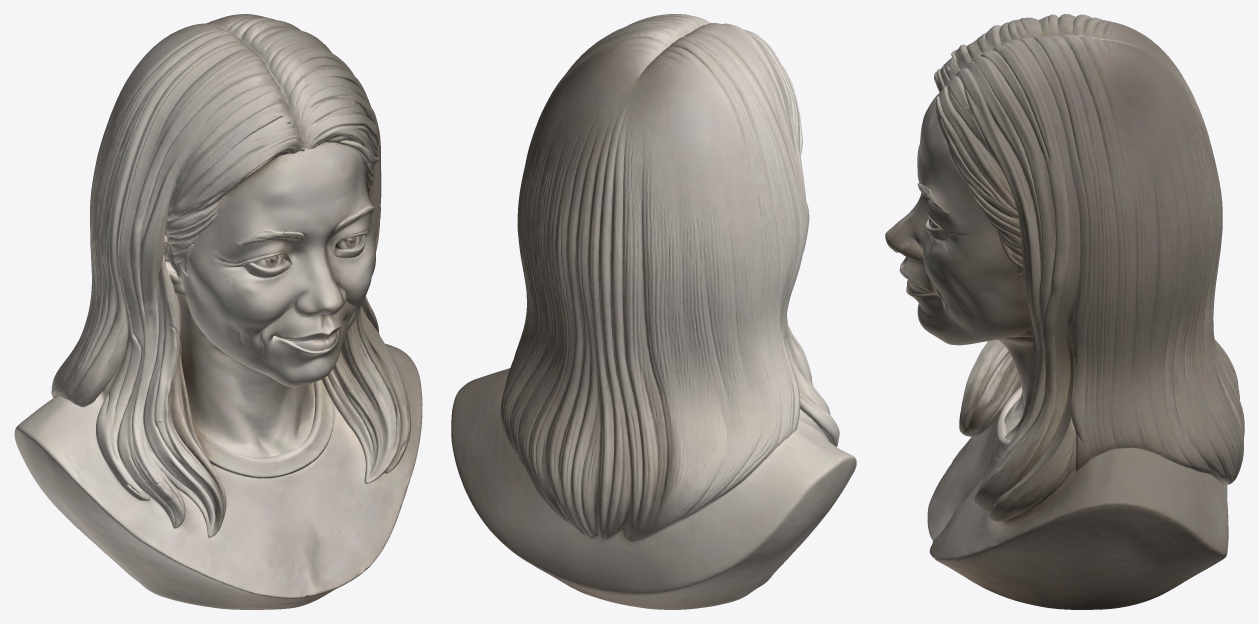
The model's file is 07_김예일.compressed.glb.
3 views of the same model, side by side, from view 1: azimuth 30°, elevation 25°; view 2: azimuth 150°, elevation 25°; view 3: azimuth 270°, elevation 25° (orthographic).
Parts seen in each view (by area): view 1: model; view 2: model; view 3: model.
Part boxes in pixels (box(x1,y1,x2,y2)): model: box(14, 14, 422, 609); model: box(451, 14, 856, 609); model: box(885, 14, 1244, 609).
Size of the model in its own units: 1.39 by 1.9 by 1.15.
Materials: 1 (1 with a texture image).
